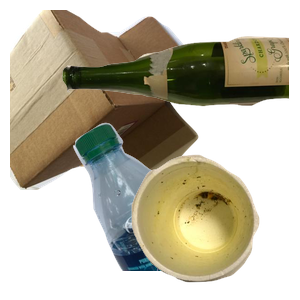cardboard: (10, 10, 206, 190)
glass: (60, 34, 300, 133)
plastic: (71, 120, 300, 300)
trash: (129, 152, 300, 300)
